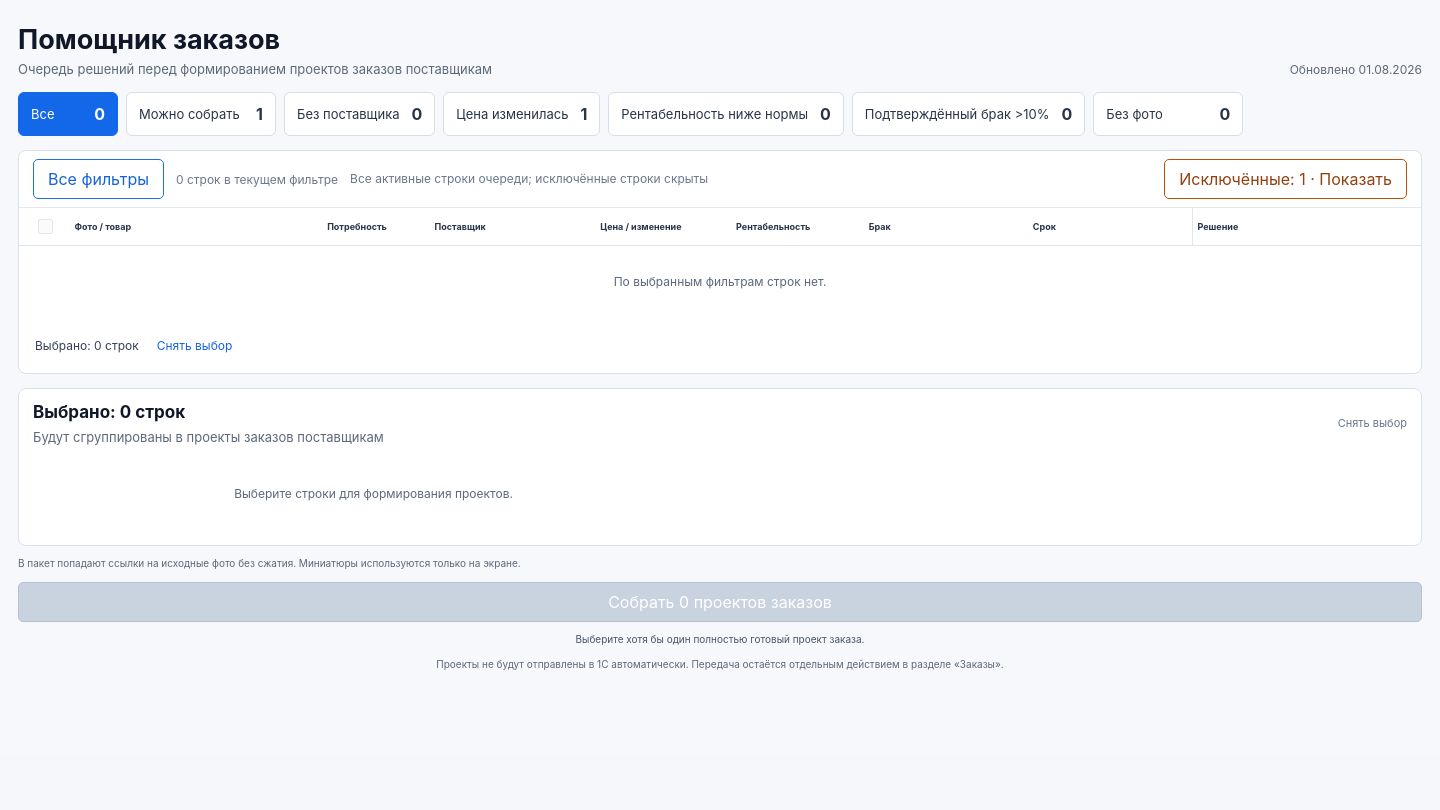
ProcurementOrderAssistant › показывает исчезнувшую потребность после явного раскрытия
This screenshot has width=1440, height=810.
Click the button "Исключённые: 1 · Показать" at (1286, 179), box [1164,159,1407,199]
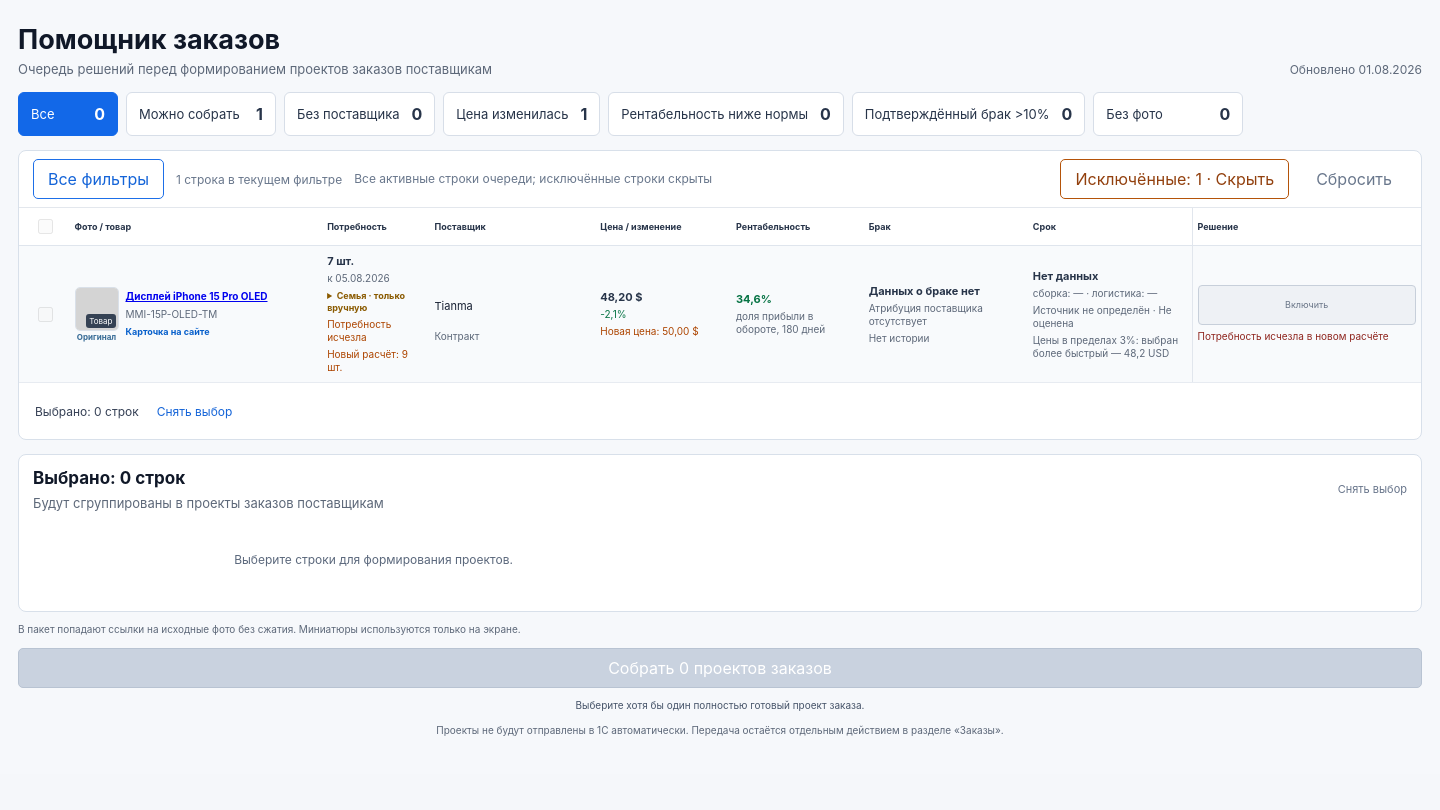
Check: the text "Новый расчёт: 9 шт." is shown, box [327,348,408,373]
Check: the text "Новая цена: 50,00 $" is shown, box [600,325,699,337]
Check: the checkbox named "Выбрать Дисплей iPhone 15 Pro OLED" is disabled, box [38,307,53,322]
